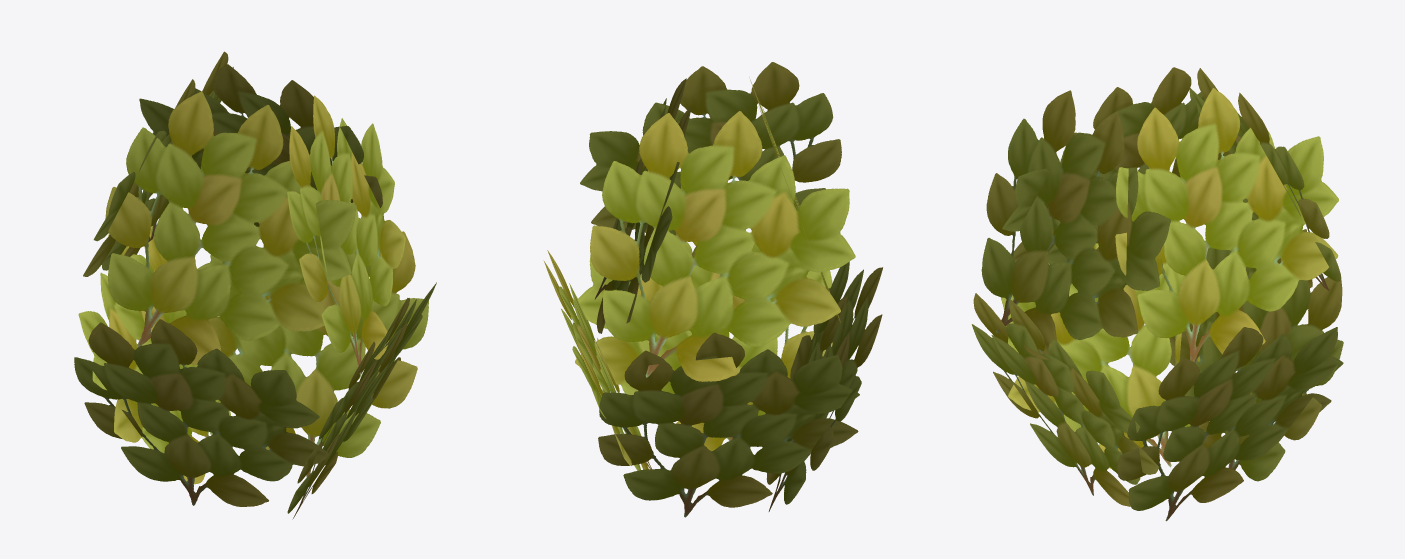
The model's file is light-bush-001-54.glb.
3 renders of one model, left to right at view 1: azimuth 30°, elevation 25°; view 2: azimuth 150°, elevation 25°; view 3: azimuth 270°, elevation 25°, orthographic.
Visible parts, largest first — view 1: light_bush.001_54; view 2: light_bush.001_54; view 3: light_bush.001_54.
Part boxes in pixels (x1,y1,x2,y2): light_bush.001_54: [74, 51, 436, 519]; light_bush.001_54: [543, 62, 882, 517]; light_bush.001_54: [971, 67, 1343, 521].
Bounding box in the file's own units: 10.17 × 12.67 × 10.2.
Materials: 1 (1 with a texture image).
